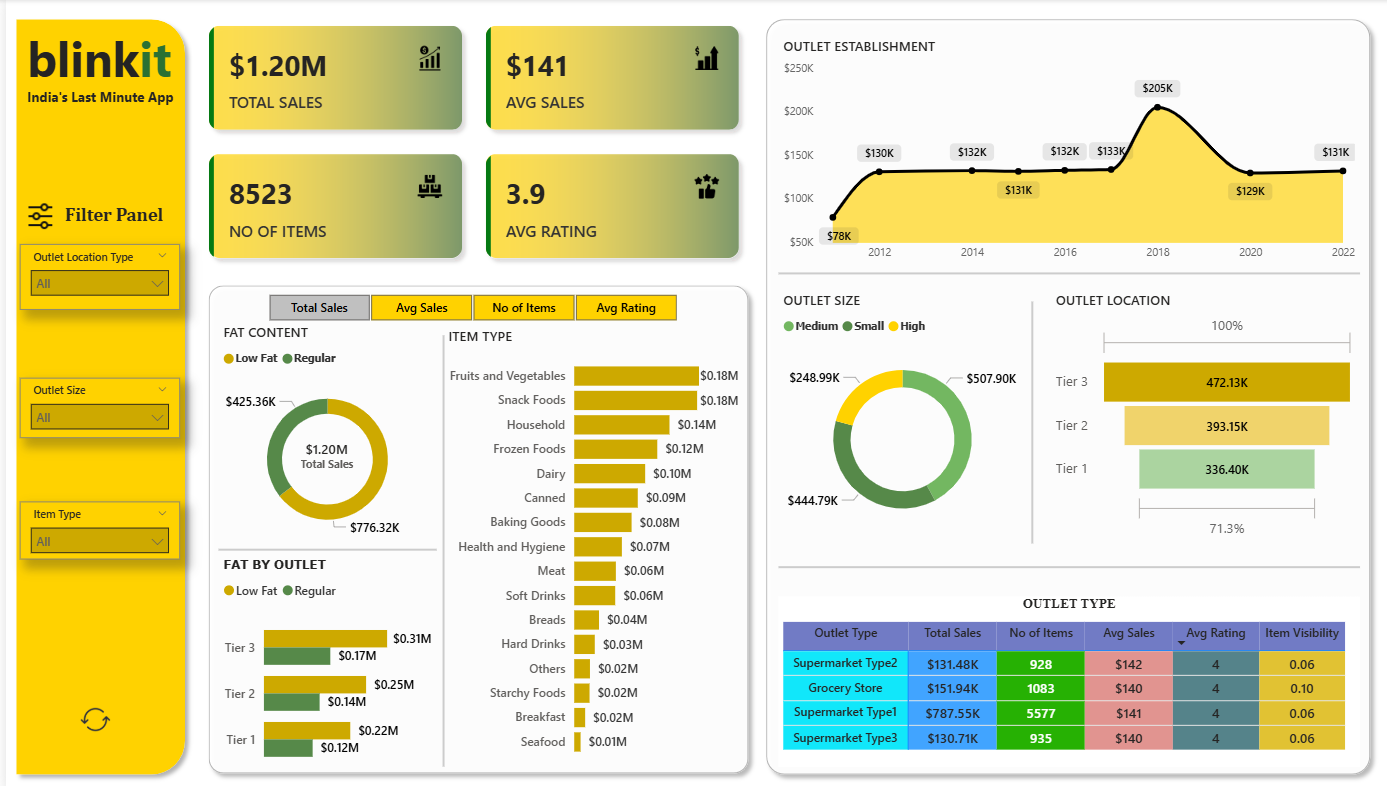

The dashboard page shown, as its layout file describes it:
{"tool":"powerbi","page":{"name":"Page 1","canvas":[1400,800],"ordinal":0},"visuals":[{"type":"shape","box":[1.3,11.4,188.2,779.6],"z":0},{"type":"textbox","box":[8.9,21.6,170.4,76.3],"z":1000},{"type":"textbox","box":[8.9,83.9,173,28],"z":2000},{"type":"cardVisual","fields":{"Data":["BlinkIT Grocery Data.Total Sales","BlinkIT Grocery Data.Avg Sales","BlinkIT Grocery Data.No of Items","BlinkIT Grocery Data.Avg Rating"]},"box":[188.2,10.2,569.8,269.6],"z":3000},{"type":"shape","box":[195.9,279.8,562.1,510],"z":4000},{"type":"donutChart","title":"FAT CONTENT","fields":{"Y":["BlinkIT Grocery Data.Total Sales"],"Category":["BlinkIT Grocery Data.Item Fat Content"]},"box":[213.7,326.9,220,230.2],"z":5000},{"type":"slicer","fields":{"Values":["Metrics.Metrics"]},"box":[239.1,291.2,460.4,39.4],"z":6000},{"type":"cardVisual","fields":{"Data":["BlinkIT Grocery Data.Total Sales"]},"box":[270.9,427.3,105.6,53.4],"z":7000},{"type":"clusteredBarChart","title":"FAT BY OUTLET","fields":{"Y":["BlinkIT Grocery Data.Total Sales"],"Category":["BlinkIT Grocery Data.Outlet Location Type"],"Series":["BlinkIT Grocery Data.Item Fat Content"]},"box":[213.7,560.9,220,228.9],"z":8000},{"type":"shape","box":[213.7,549.4,220,11.4],"z":9000},{"type":"shape","box":[433.7,339.6,15.3,435],"z":10000},{"type":"barChart","title":"ITEM TYPE","fields":{"Y":["BlinkIT Grocery Data.Total Sales"],"Category":["BlinkIT Grocery Data.Item Type"]},"box":[441.3,330.7,302.7,443.9],"z":11000},{"type":"shape","box":[758,11.4,627,779.6],"z":12000},{"type":"lineChart","title":"OUTLET ESTABLISHMENT","fields":{"Y":["BlinkIT Grocery Data.Total Sales"],"Category":["BlinkIT Grocery Data.Outlet Establishment Year"]},"box":[778.3,38.2,586.3,235.3],"z":13000},{"type":"shape","box":[778.3,273.4,586.3,6.4],"z":14000},{"type":"donutChart","title":"OUTLET SIZE","fields":{"Y":["BlinkIT Grocery Data.Total Sales"],"Category":["BlinkIT Grocery Data.Outlet Size"]},"box":[778.3,293.8,250.5,255.6],"z":15000},{"type":"shape","box":[1028.9,305.2,12.7,244.2],"z":16000},{"type":"funnel","title":"OUTLET LOCATION","fields":{"Y":["Sum(BlinkIT Grocery Data.Sales)"],"Category":["BlinkIT Grocery Data.Outlet Location Type"]},"box":[1053.1,293.8,311.6,255.6],"z":17000},{"type":"shape","box":[778.3,569.8,586.3,6.4],"z":18000},{"type":"pivotTable","title":"OUTLET TYPE","fields":{"Rows":["BlinkIT Grocery Data.Outlet Type"],"Values":["BlinkIT Grocery Data.Total Sales","BlinkIT Grocery Data.No of Items","BlinkIT Grocery Data.Avg Sales","BlinkIT Grocery Data.Avg Rating","Avg(BlinkIT Grocery Data.Item Visibility)"]},"box":[778.3,602.8,586.3,171.7],"z":19000},{"type":"slicer","fields":{"Values":["BlinkIT Grocery Data.Outlet Location Type"]},"box":[14,246.7,161.5,66.1],"z":20000},{"type":"slicer","fields":{"Values":["BlinkIT Grocery Data.Outlet Size"]},"box":[14,381.5,161.5,61],"z":21000},{"type":"slicer","fields":{"Values":["BlinkIT Grocery Data.Item Type"]},"box":[14,506.2,161.5,58.5],"z":22000},{"type":"textbox","box":[39.4,202.2,139.9,39.4],"z":23000},{"type":"image","box":[14,197.1,42,44.5],"z":24000},{"type":"image","box":[69.9,704.6,39.4,44.5],"z":25000}]}

Visuals, with their boxes in screenshot pixels (x1, y1, x2, y2), scaled from the page's 1400x800 canvas onto the 1387x786 screenshot:
shape: (left=1, top=11, right=188, bottom=777)
textbox: (left=9, top=21, right=178, bottom=96)
textbox: (left=9, top=82, right=180, bottom=110)
cardVisual - BlinkIT Grocery Data.Total Sales x BlinkIT Grocery Data.Avg Sales: (left=186, top=10, right=751, bottom=275)
shape: (left=194, top=275, right=751, bottom=776)
"FAT CONTENT" donutChart: (left=212, top=321, right=430, bottom=547)
slicer - Metrics.Metrics: (left=237, top=286, right=693, bottom=325)
cardVisual - BlinkIT Grocery Data.Total Sales: (left=268, top=420, right=373, bottom=472)
"FAT BY OUTLET" clusteredBarChart: (left=212, top=551, right=430, bottom=776)
shape: (left=212, top=540, right=430, bottom=551)
shape: (left=430, top=334, right=445, bottom=761)
"ITEM TYPE" barChart: (left=437, top=325, right=737, bottom=761)
shape: (left=751, top=11, right=1372, bottom=777)
"OUTLET ESTABLISHMENT" lineChart: (left=771, top=38, right=1352, bottom=269)
shape: (left=771, top=269, right=1352, bottom=275)
"OUTLET SIZE" donutChart: (left=771, top=289, right=1019, bottom=540)
shape: (left=1019, top=300, right=1032, bottom=540)
"OUTLET LOCATION" funnel: (left=1043, top=289, right=1352, bottom=540)
shape: (left=771, top=560, right=1352, bottom=566)
"OUTLET TYPE" pivotTable: (left=771, top=592, right=1352, bottom=761)
slicer - BlinkIT Grocery Data.Outlet Location Type: (left=14, top=242, right=174, bottom=307)
slicer - BlinkIT Grocery Data.Outlet Size: (left=14, top=375, right=174, bottom=435)
slicer - BlinkIT Grocery Data.Item Type: (left=14, top=497, right=174, bottom=555)
textbox: (left=39, top=199, right=178, bottom=237)
image: (left=14, top=194, right=55, bottom=237)
image: (left=69, top=692, right=108, bottom=736)
